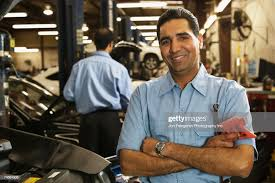Indian_Male: (149, 18, 208, 81)
